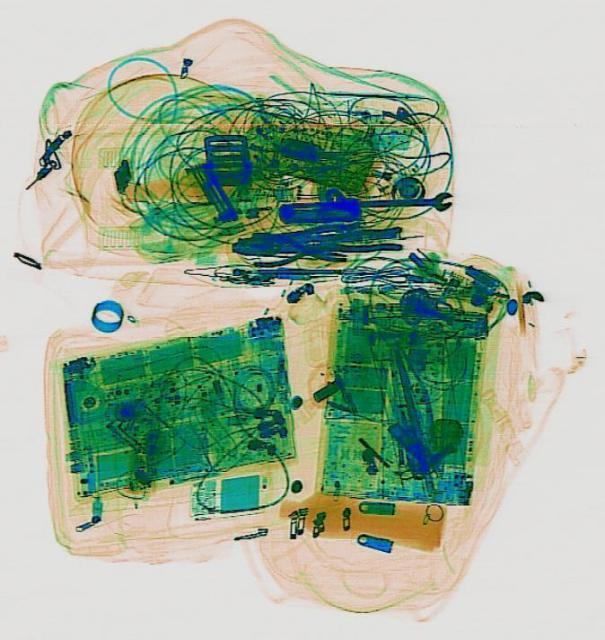Pliers: (247, 214, 360, 260)
Wrench: (327, 188, 450, 214)
